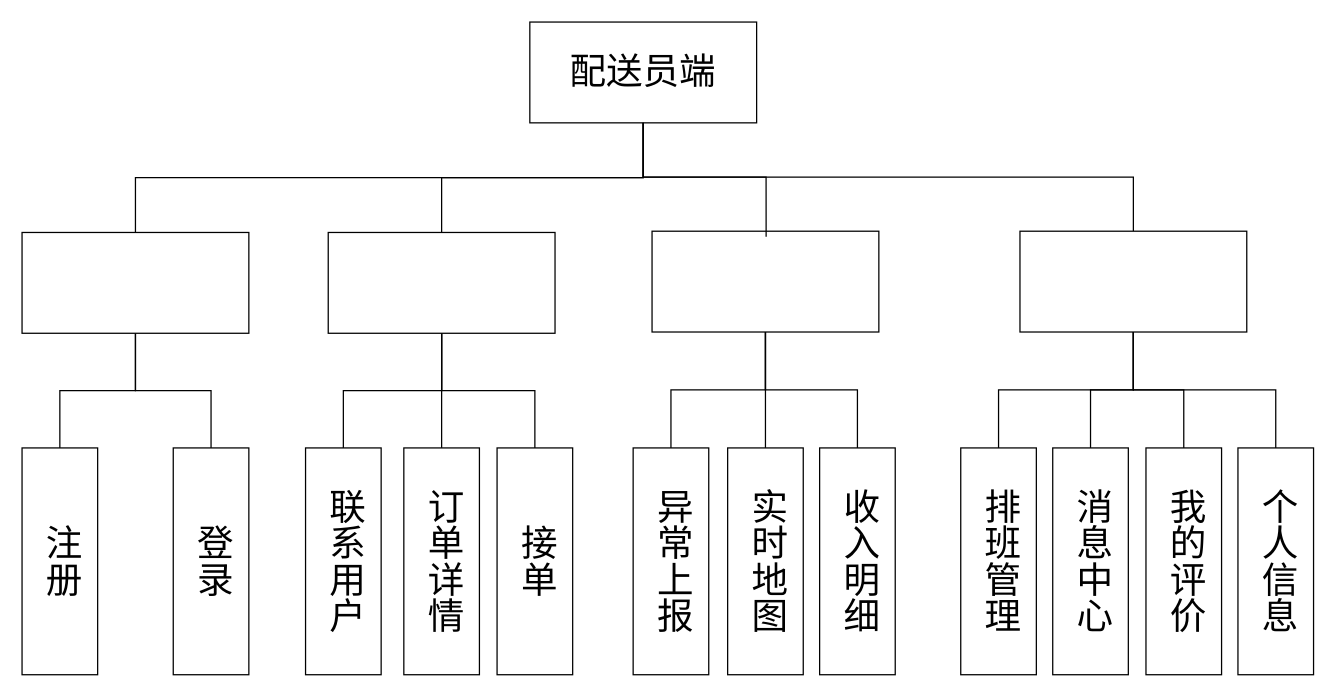
The diagram is 1336 pixels wide and 697 high, and some of its shapes have lost their labels. Here are the shapes that lost their labels. From the top down, the box of each, then its label:
(21, 231, 249, 333): 登录注册页
(327, 231, 555, 333): 订单页
(651, 230, 879, 332): 导航页
(1019, 230, 1247, 332): 我的页
